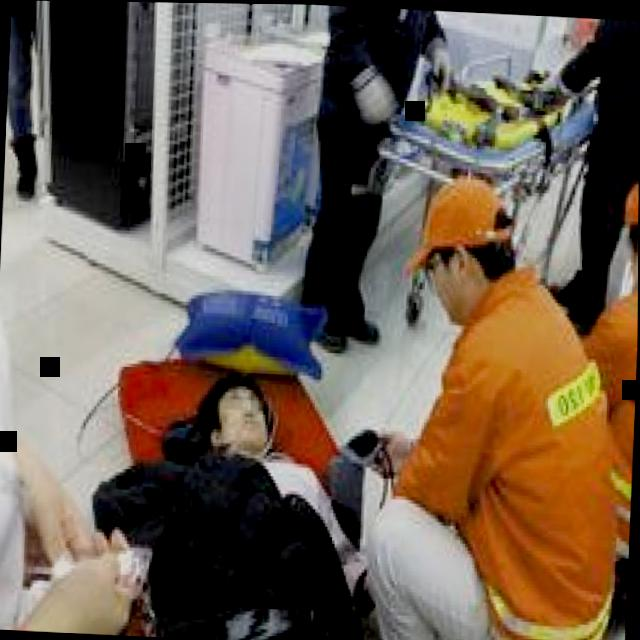Fall-Detected: (138, 326, 412, 640)
